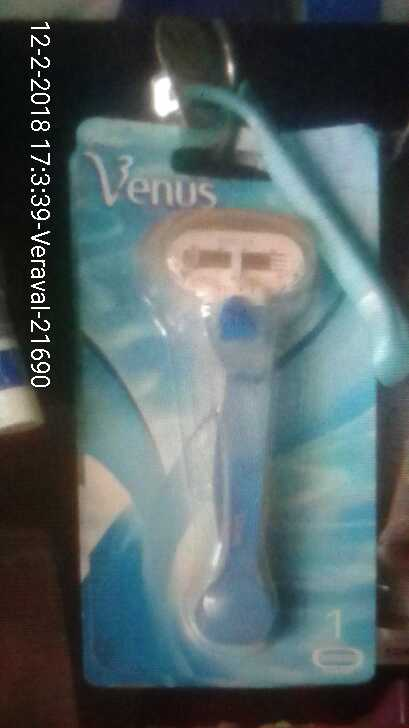venus: (74, 134, 380, 684)
